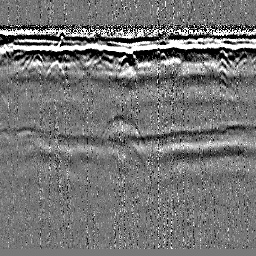cavity: (115, 48, 139, 74)
